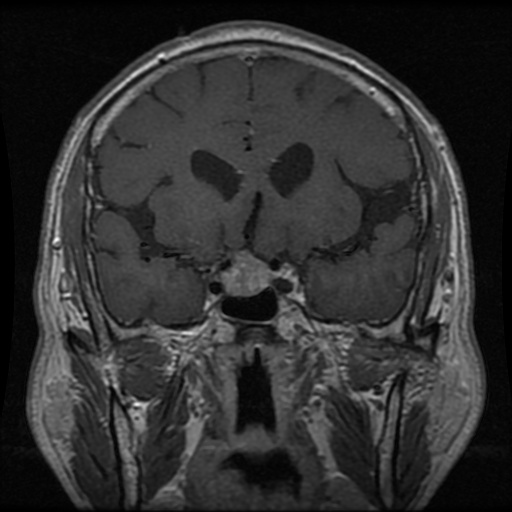pituitary: (219, 250, 273, 295)
